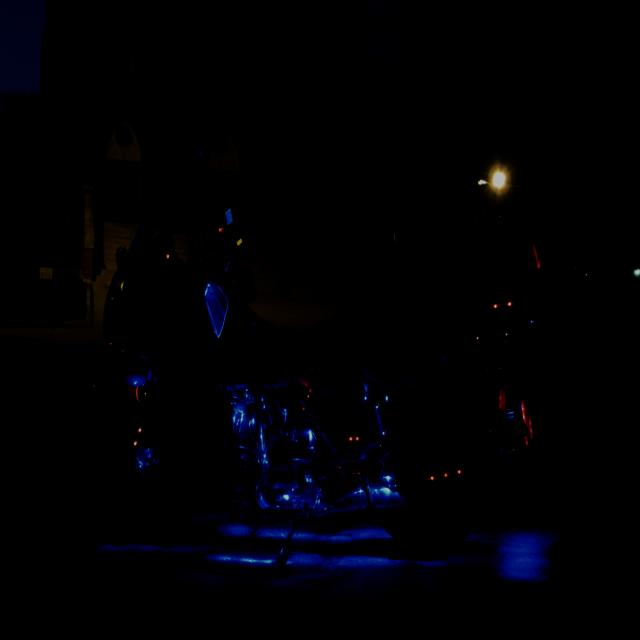Motorbike: (66, 138, 536, 584)
